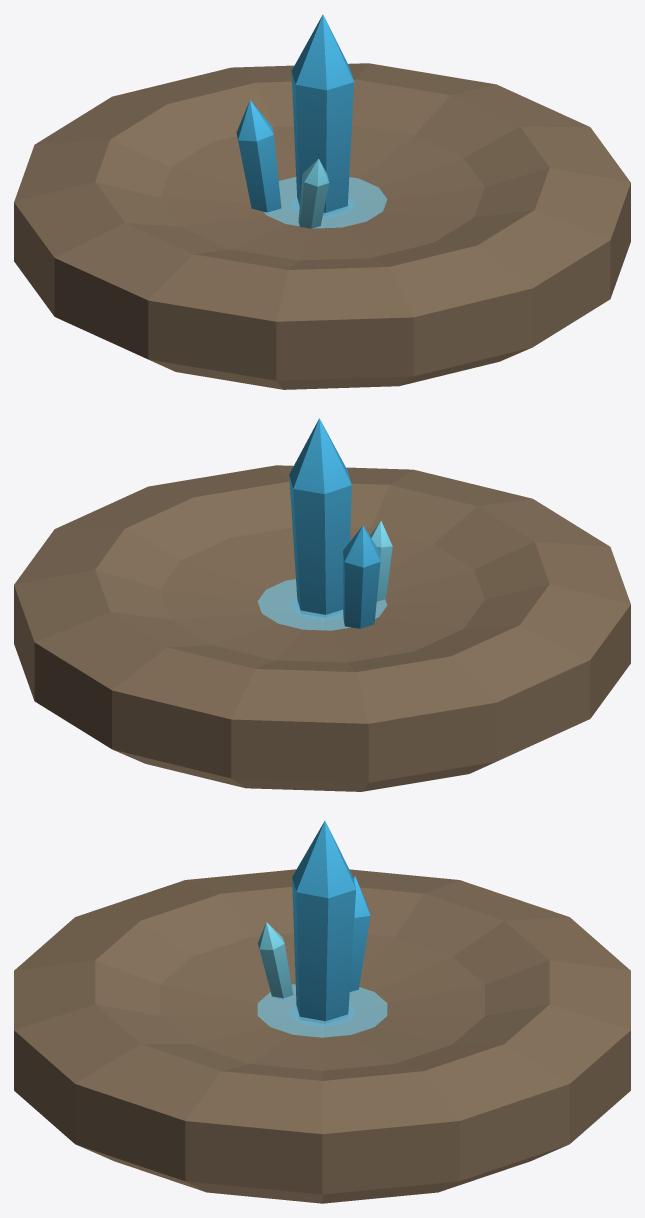
Rendered from spring.fbx.
The picture shows the model from 3 angles, top to bottom: view 1: azimuth 30°, elevation 25°; view 2: azimuth 150°, elevation 25°; view 3: azimuth 270°, elevation 25°; orthographic projection. The views are drawn at different scales.
Visible parts, largest first — view 1: spring; view 2: spring; view 3: spring.
Boxes of the visible parts, x1,y1,x2,y2 form: spring: (14,14,630,389); spring: (14,418,630,791); spring: (14,821,630,1203).
Bounding box in the file's own units: 1.9 × 0.8999 × 1.85.
